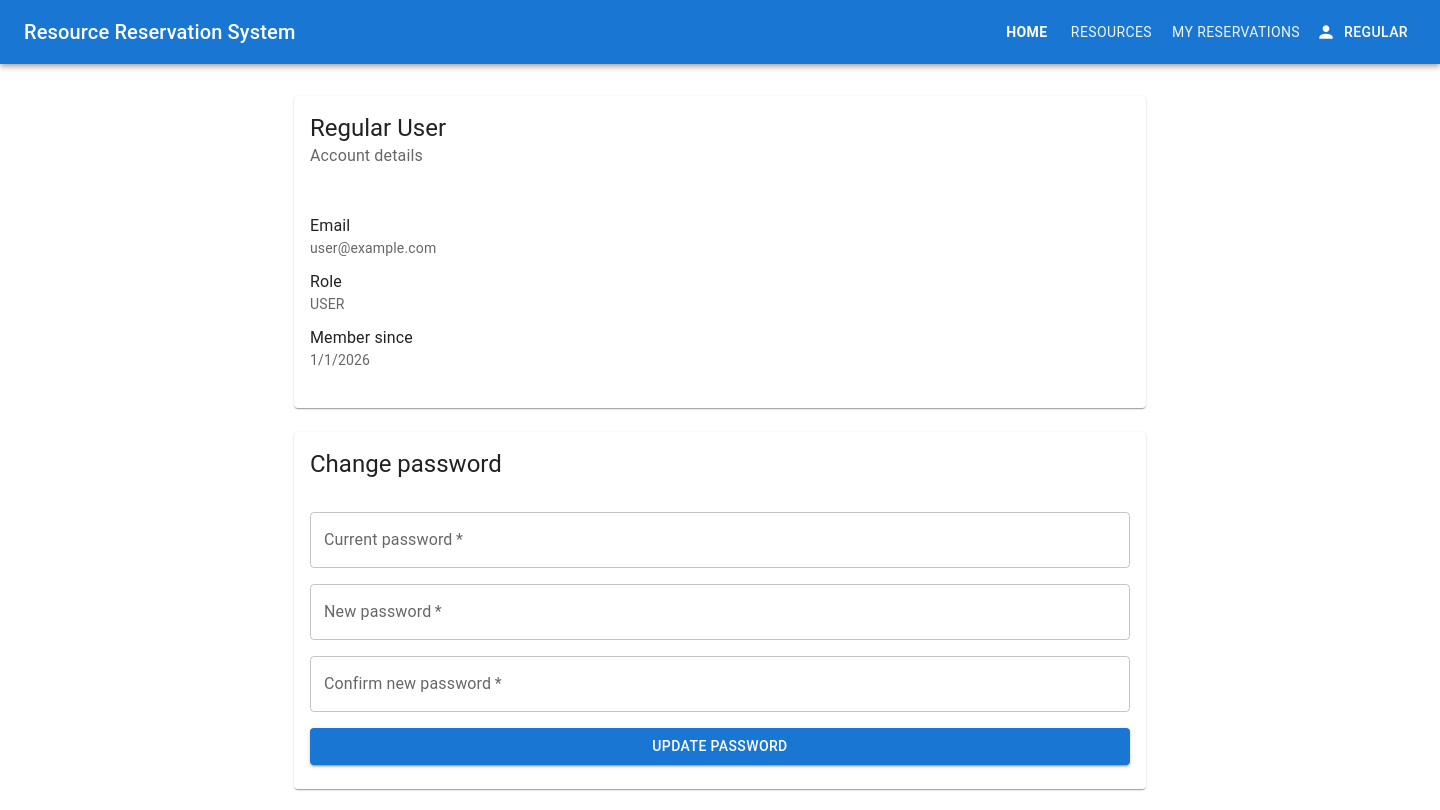
Test: ProfilePage › shows validation errors for weak or mismatched passwords
Type "password123" into the password field labelled "Current password *" at point(720, 540), box [310,512,1130,568]
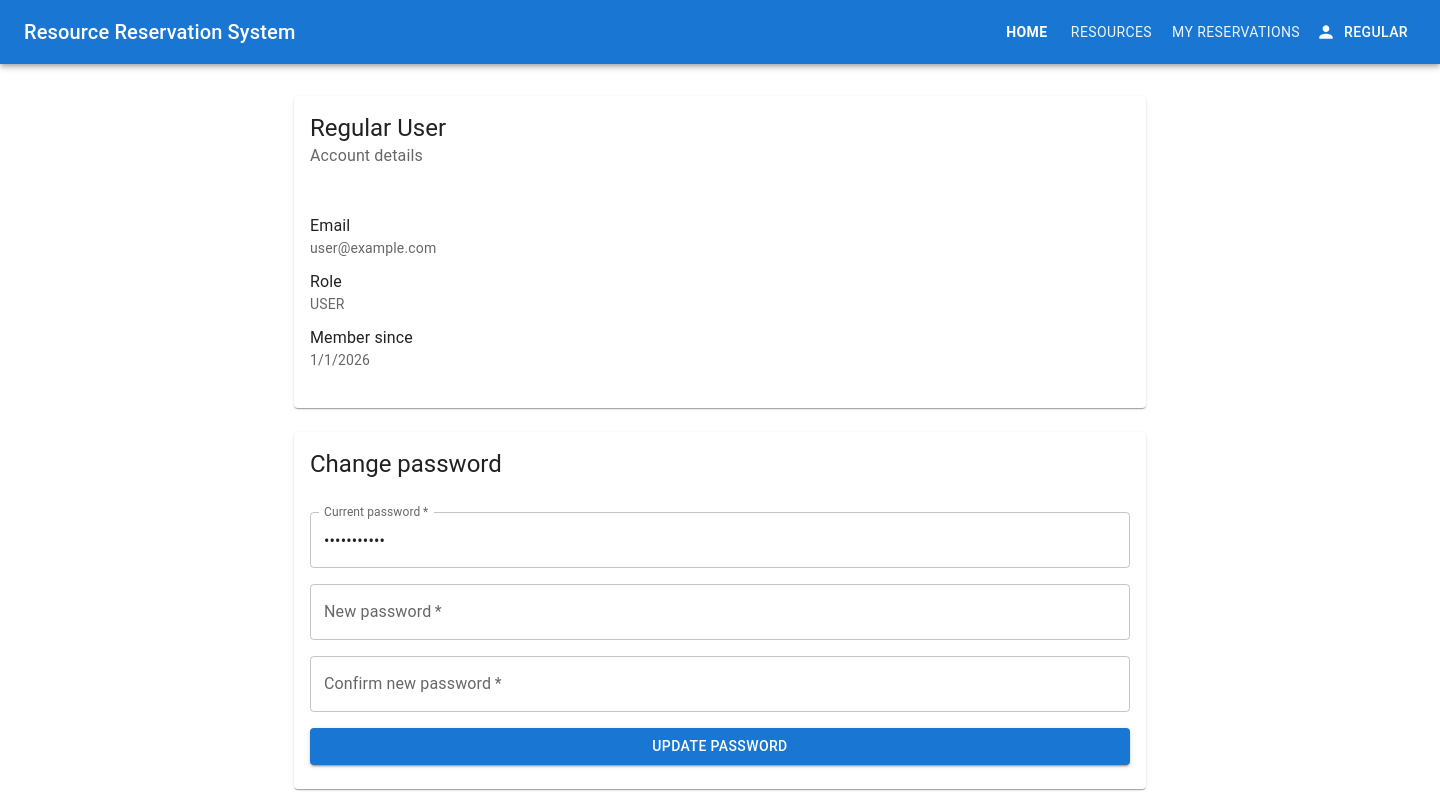
Type "short" into the password field labelled "New password *" at point(720, 612), box [310,584,1130,640]
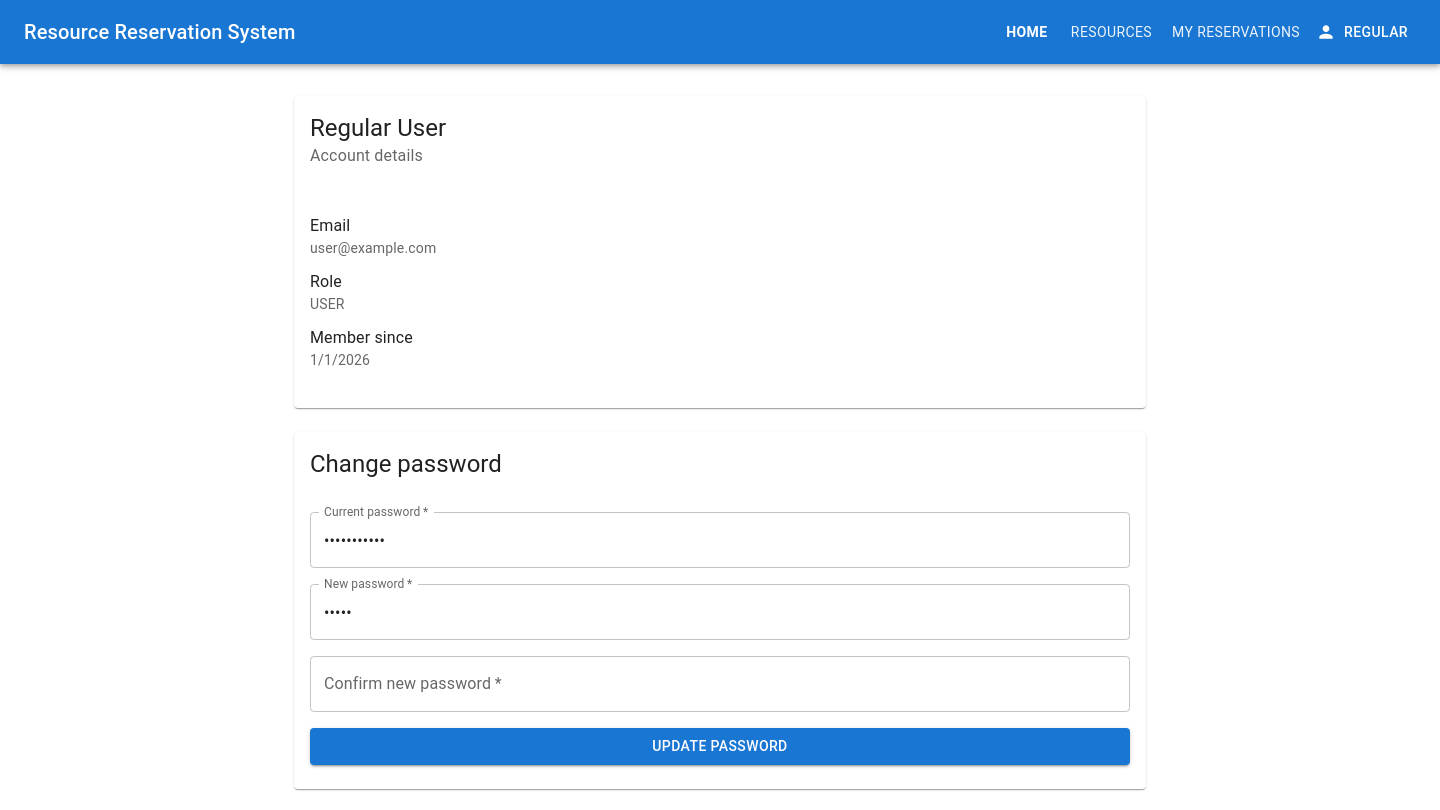
Type "different" into the password field labelled "Confirm new password *" at point(720, 684), box [310,656,1130,712]
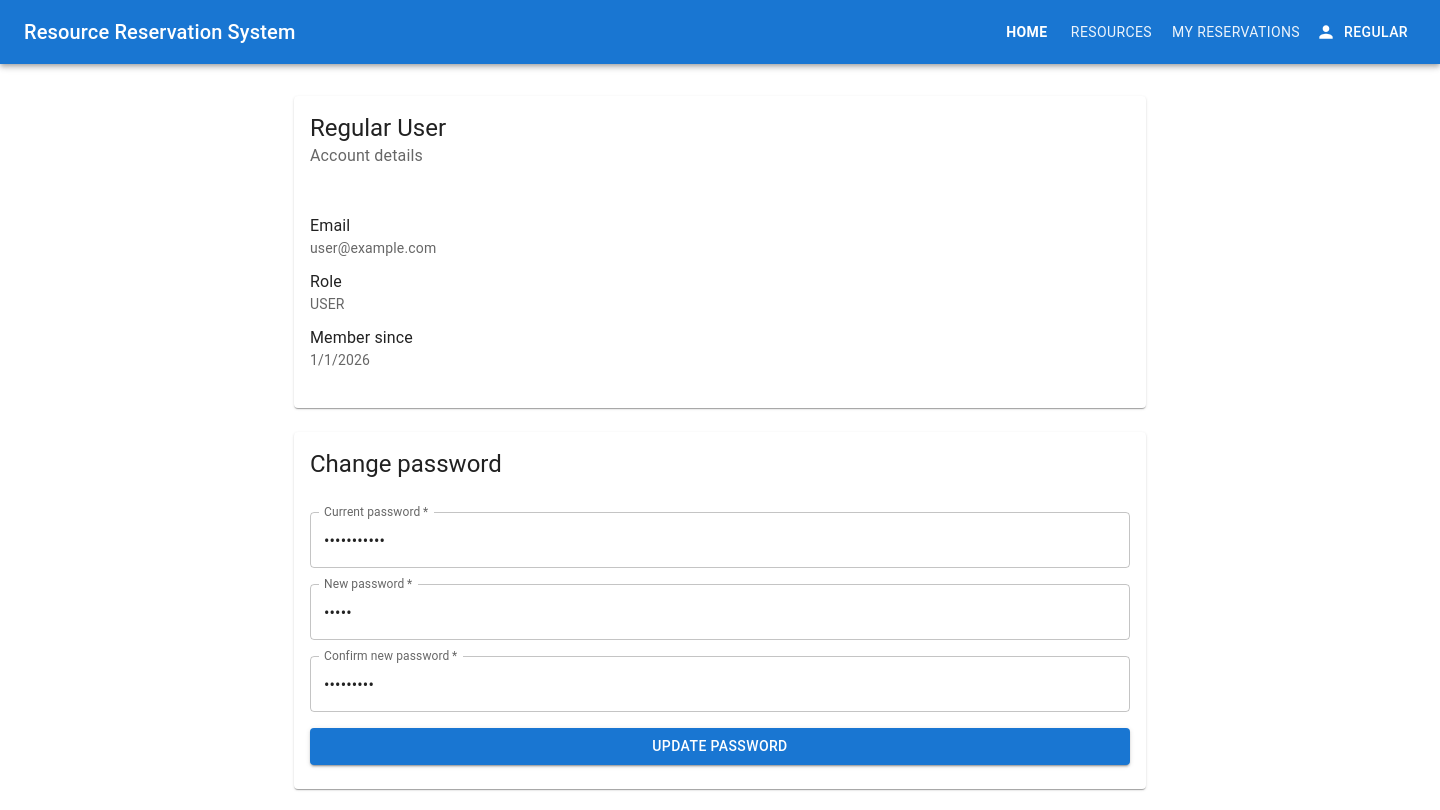
Click the button "Update password" at point(720, 746), box [310,728,1130,765]
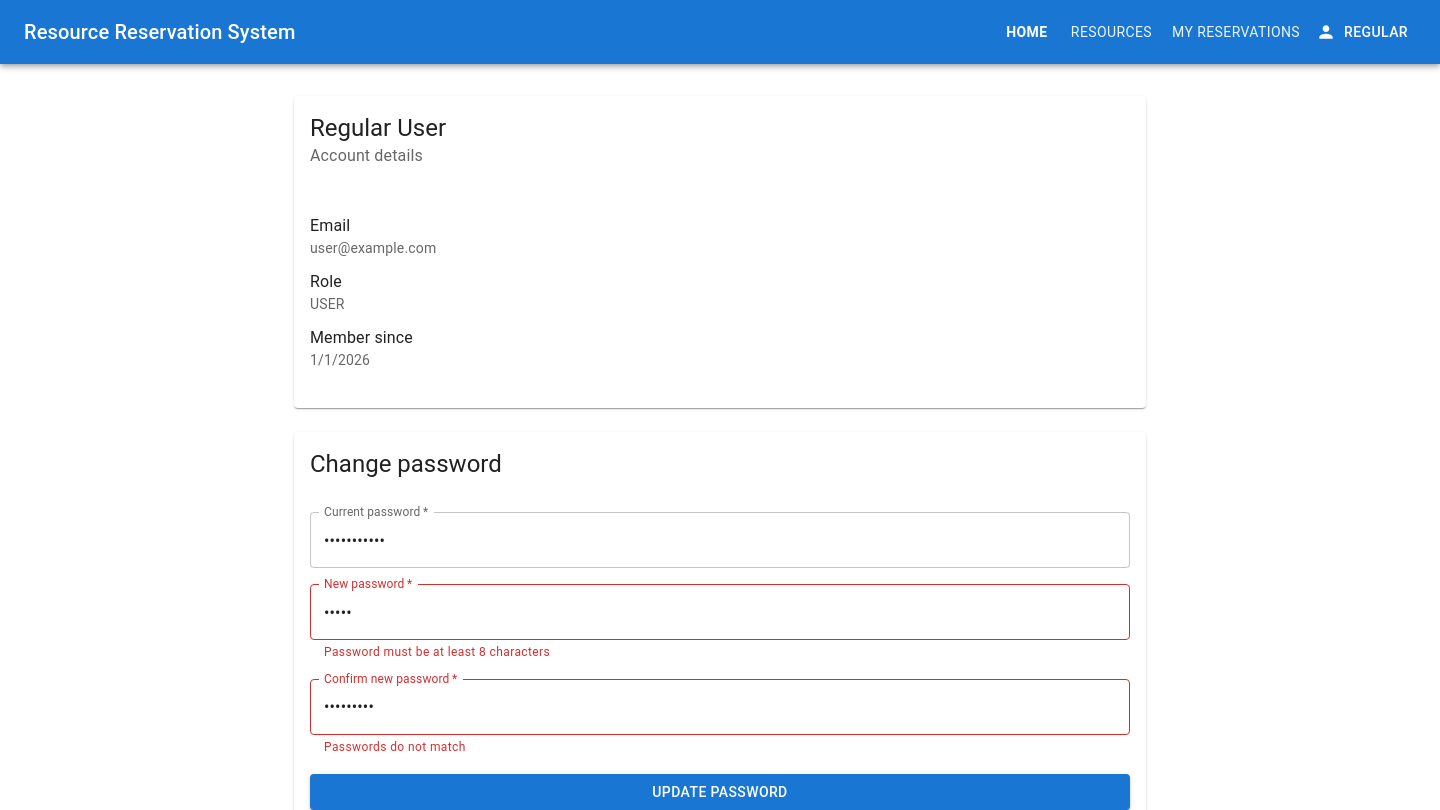
Check: the text "Password must be at least 8 characters" is shown, box [324,645,550,659]
Check: the text "Passwords do not match" is shown, box [324,740,466,754]
